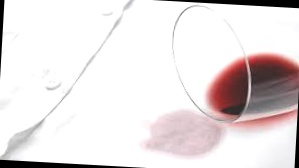wine: (138, 103, 229, 158)
